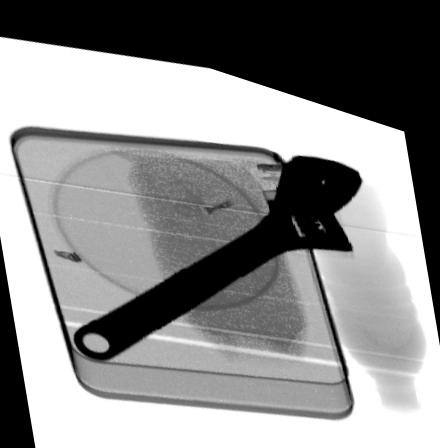Wrench: (71, 133, 363, 355)
